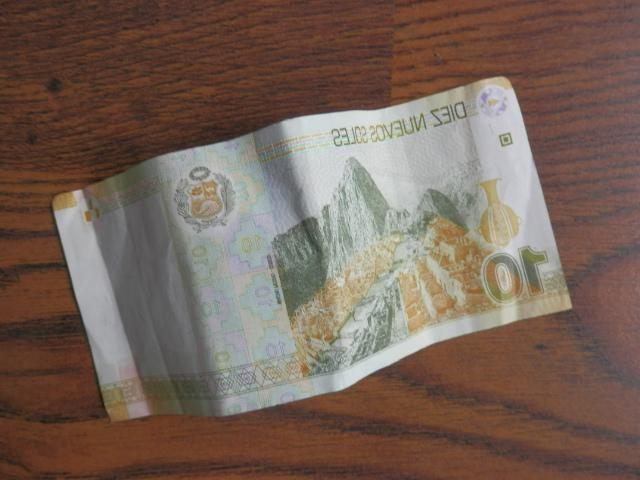B10: (53, 75, 571, 421)
